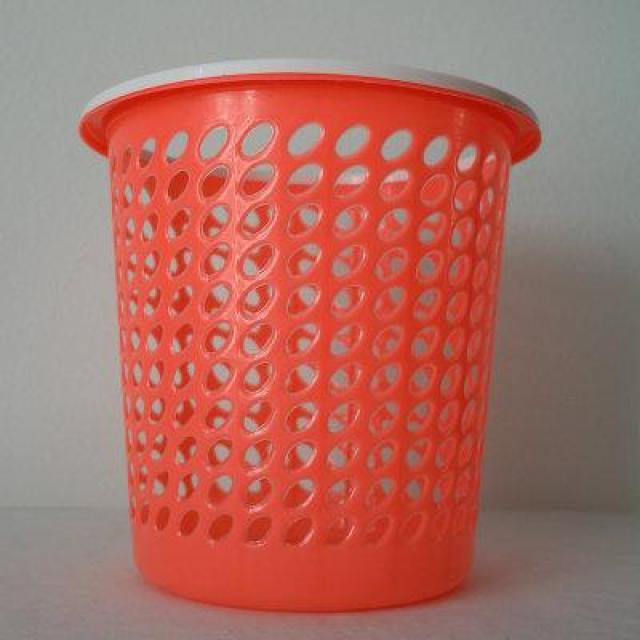dustbin: (74, 50, 553, 620)
